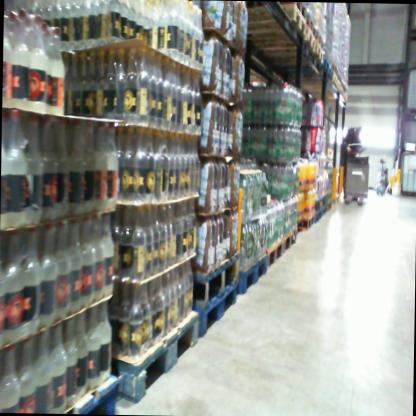pallet: (113, 300, 209, 406), (186, 252, 238, 313), (229, 1, 307, 37), (199, 275, 237, 347), (238, 20, 319, 52), (69, 373, 130, 412), (244, 40, 323, 67), (224, 253, 268, 297), (254, 233, 284, 268), (280, 55, 329, 75), (277, 3, 310, 23), (278, 224, 299, 252), (294, 214, 314, 231), (307, 13, 319, 41), (317, 66, 334, 78), (315, 30, 326, 48)
pallet_truck: (338, 137, 384, 221)
